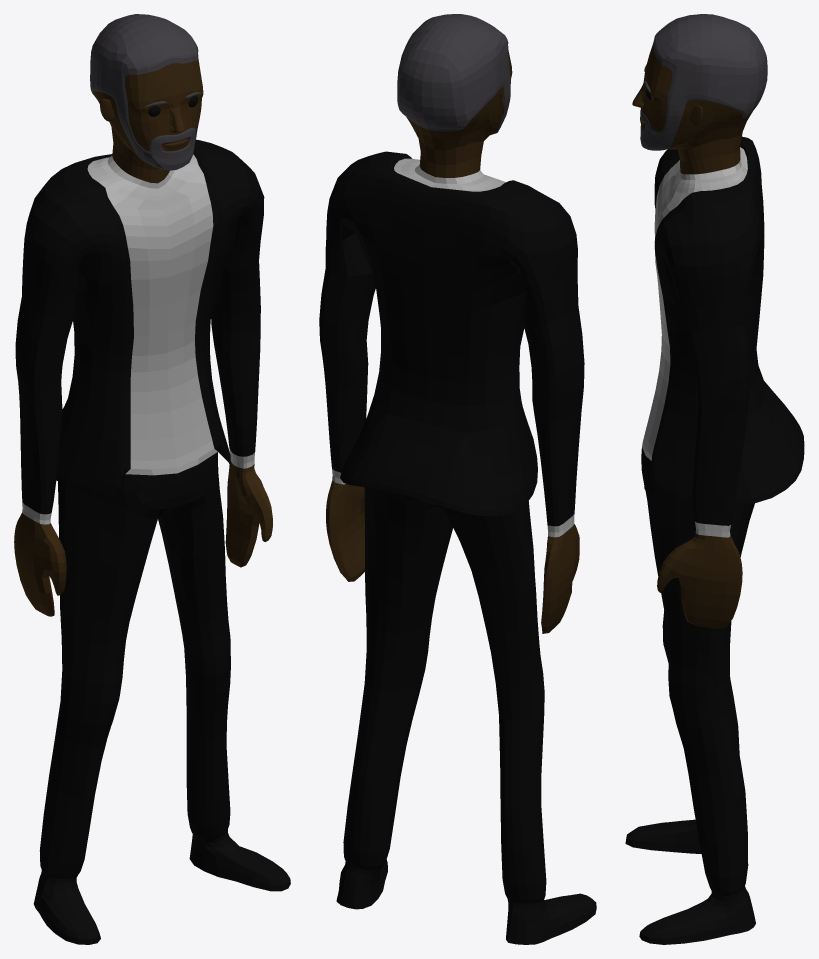
The model's file is Smooth_Male_Suit.obj.
3 renders of one model, left to right at view 1: azimuth 30°, elevation 25°; view 2: azimuth 150°, elevation 25°; view 3: azimuth 270°, elevation 25°, orthographic. The views are drawn at different scales.
Visible parts, largest first — view 1: BaseHuman_Cylinder.002; view 2: BaseHuman_Cylinder.002; view 3: BaseHuman_Cylinder.002.
Boxes of the visible parts, left/top/right/bottom form: BaseHuman_Cylinder.002: left=14, top=14, right=290, bottom=944; BaseHuman_Cylinder.002: left=319, top=14, right=596, bottom=944; BaseHuman_Cylinder.002: left=625, top=14, right=804, bottom=944.
Size of the model in its own units: 1.4 by 4.82 by 0.9017.
